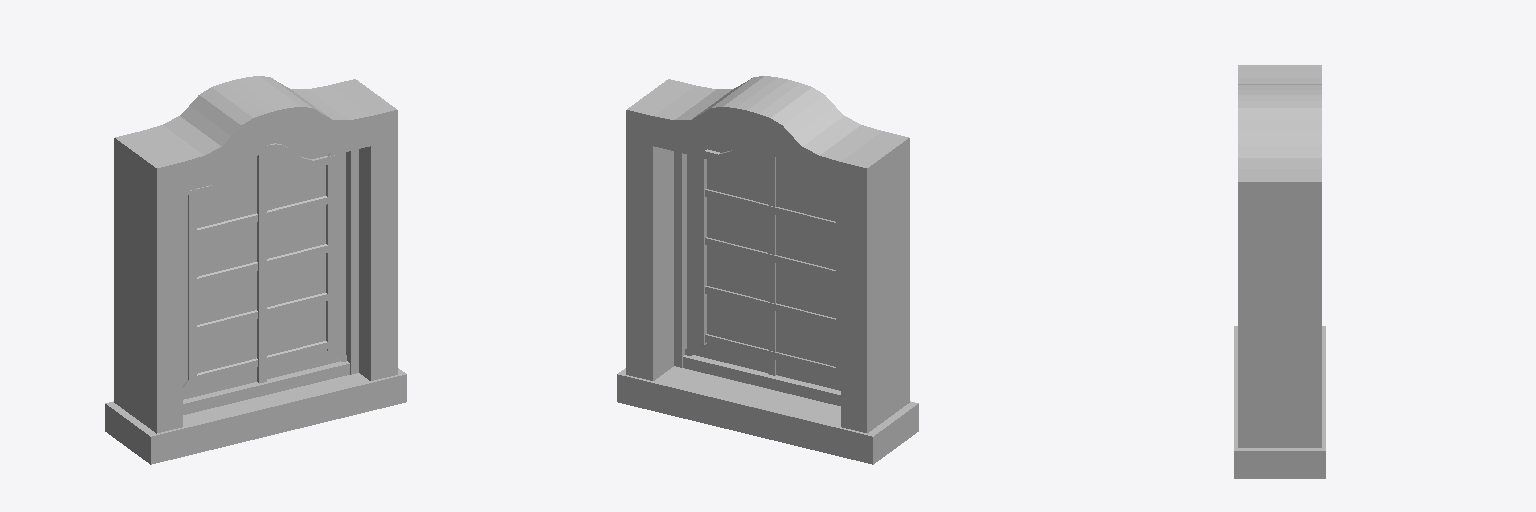
Rendered from Window_Wide_Flat2.obj.
3 views of the same model, side by side, from view 1: azimuth 30°, elevation 25°; view 2: azimuth 150°, elevation 25°; view 3: azimuth 270°, elevation 25° (orthographic).
Visible parts, largest first — view 1: Window_Wide_Flat2; view 2: Window_Wide_Flat2; view 3: Window_Wide_Flat2.
Part boxes in pixels (left/top/right/bottom): Window_Wide_Flat2: left=105, top=76, right=406, bottom=464; Window_Wide_Flat2: left=617, top=76, right=918, bottom=464; Window_Wide_Flat2: left=1234, top=65, right=1325, bottom=478.
Size of the model in its own units: 1.34 by 1.61 by 0.4135.